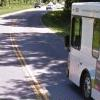Bus: (63, 2, 98, 98)
